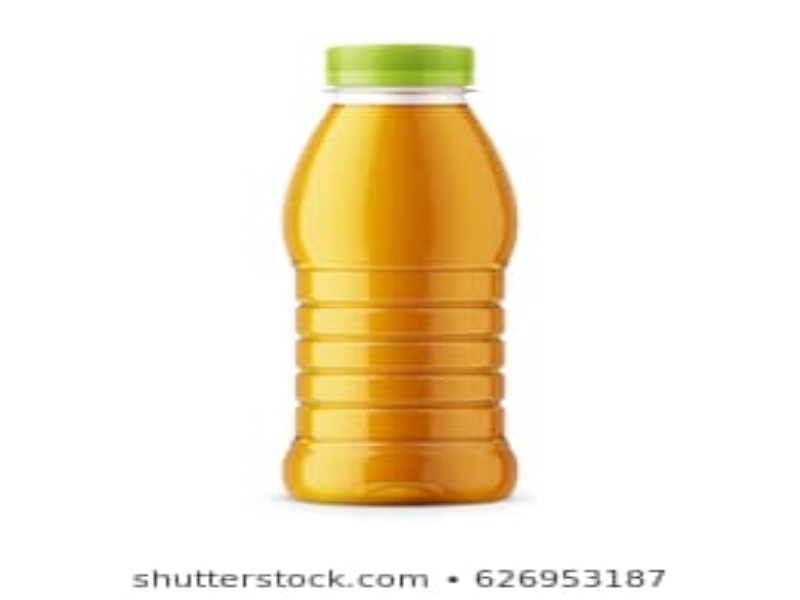bottle-cap: (320, 43, 479, 96)
plastic-bottle: (278, 40, 523, 505)
